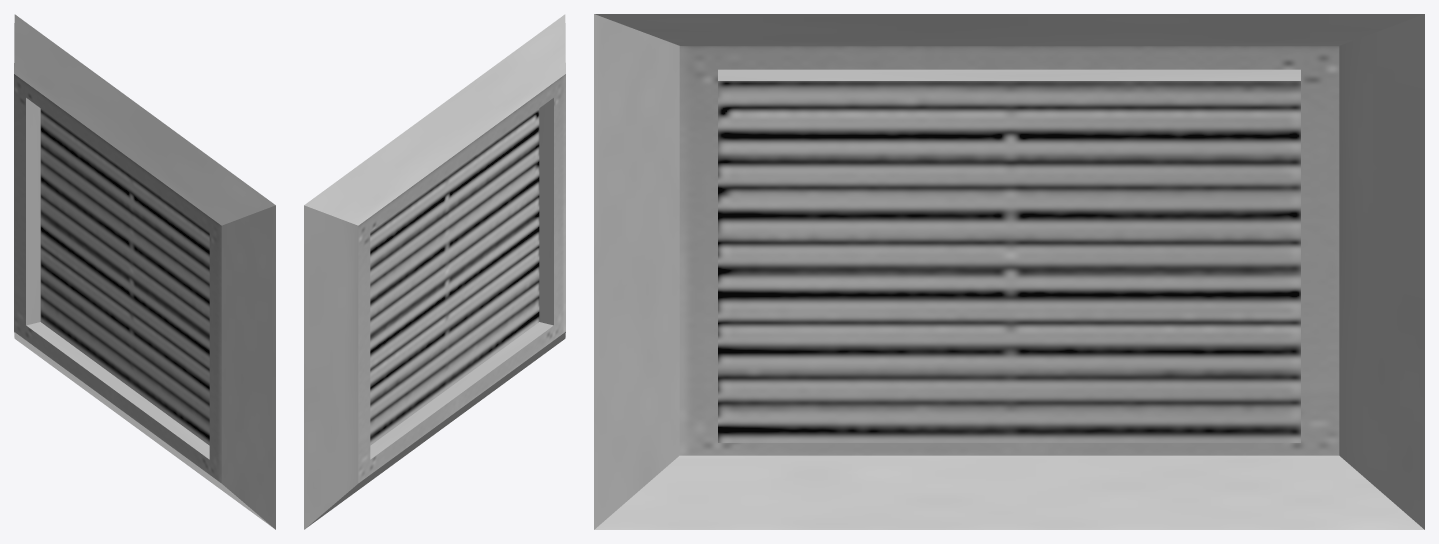
The model's file is Ventilation.fbx.
3 renders of one model, left to right at view 1: azimuth 30°, elevation 25°; view 2: azimuth 150°, elevation 25°; view 3: azimuth 270°, elevation 25°, orthographic. The views are drawn at different scales.
Visible parts, largest first — view 1: Ventilation; view 2: Ventilation; view 3: Ventilation.
Part boxes in pixels (box(x1,y1,x2,y2)): Ventilation: box(14, 14, 275, 529); Ventilation: box(304, 14, 565, 529); Ventilation: box(594, 14, 1424, 529).
Size of the model in its own units: 3.43 by 38.85 by 56.68.
1 material, 1 textured.
